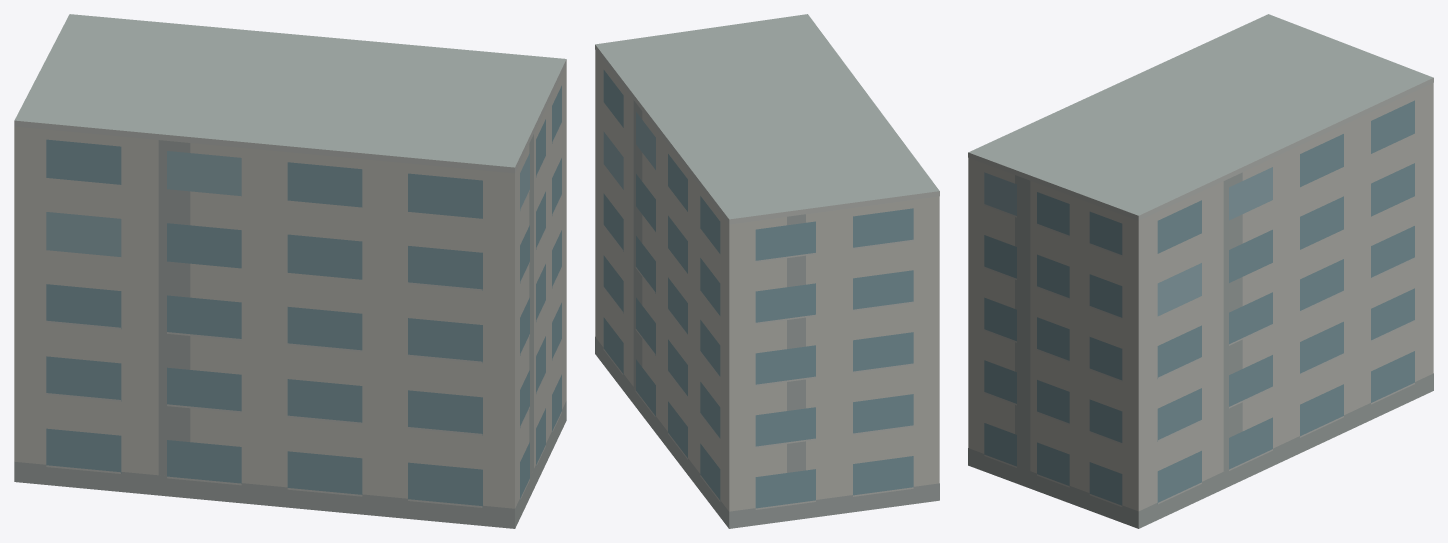
Rendered from survey-upis-32526503.glb.
The picture shows the model from 3 angles, left to right: view 1: azimuth 30°, elevation 25°; view 2: azimuth 150°, elevation 25°; view 3: azimuth 270°, elevation 25°; orthographic projection. The views are drawn at different scales.
Parts seen in each view (by area): view 1: survey-upis-32526503.tmp; view 2: survey-upis-32526503.tmp; view 3: survey-upis-32526503.tmp.
Part boxes in pixels (box(x1,y1,x2,y2)): survey-upis-32526503.tmp: box(14, 14, 566, 528); survey-upis-32526503.tmp: box(595, 14, 939, 528); survey-upis-32526503.tmp: box(968, 14, 1433, 528).
Size of the model in its own units: 20.47 by 14.8 by 19.95.
